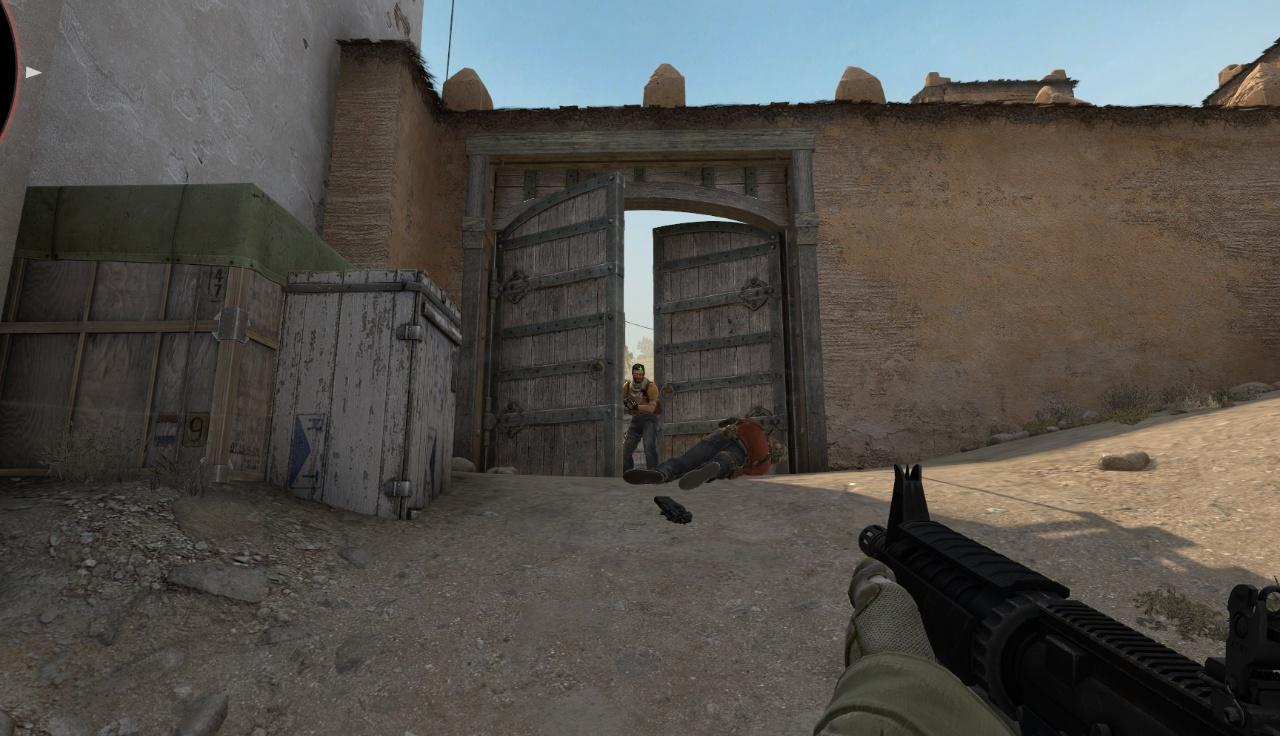rifle: (815, 460, 1280, 736)
tt: (624, 364, 660, 476)
tthead: (632, 364, 645, 383)
